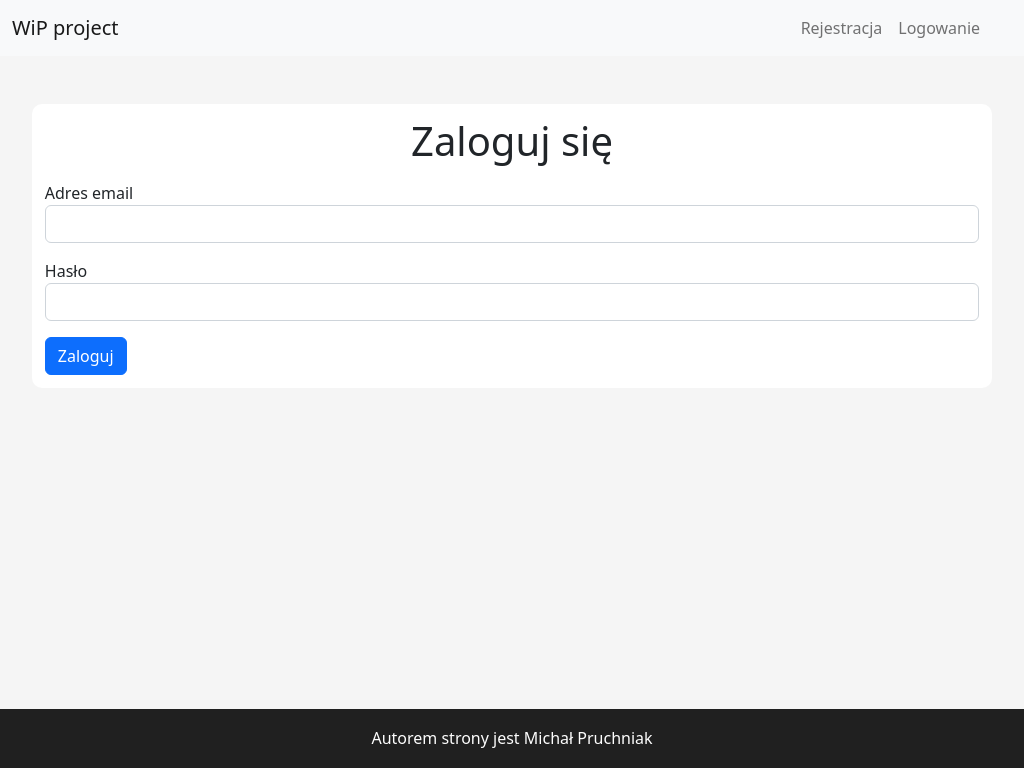
Test: check login validation
Click the submit button: (86, 356) [45,337,127,375]
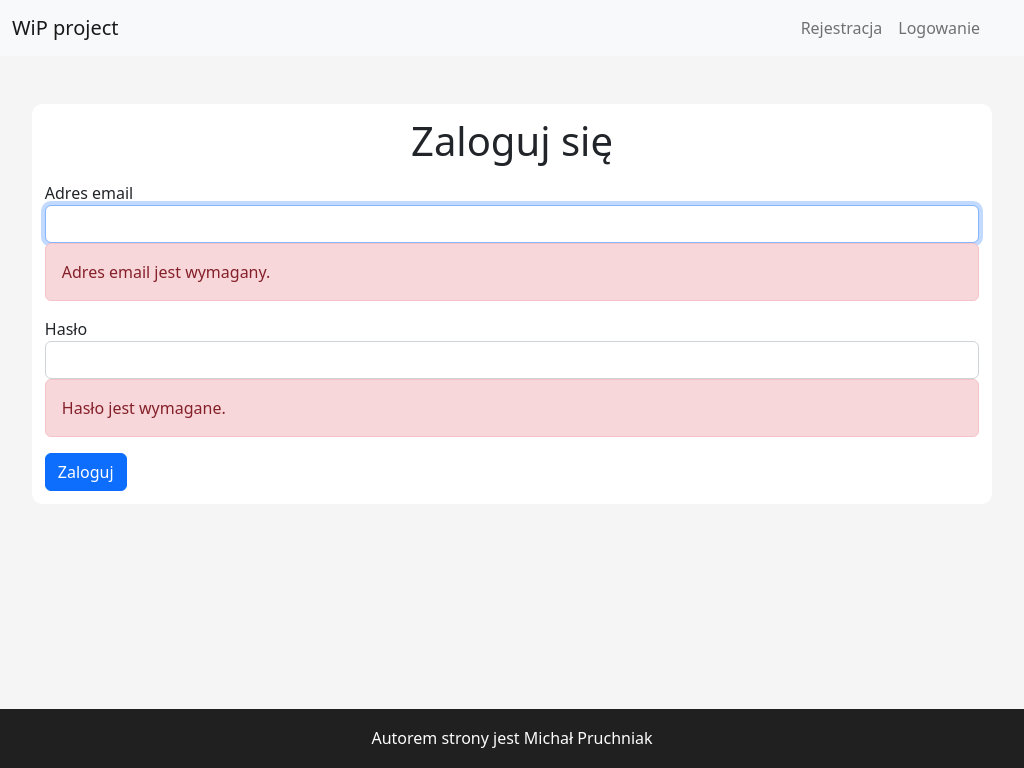
Expected: the text "Adres email jest wymagany." is shown, [45,243,979,301]
Expected: the text "Hasło jest wymagane." is shown, [45,379,979,437]
In the field labelled "Adres email": (512, 224) [45,205,979,243], type "invalid"
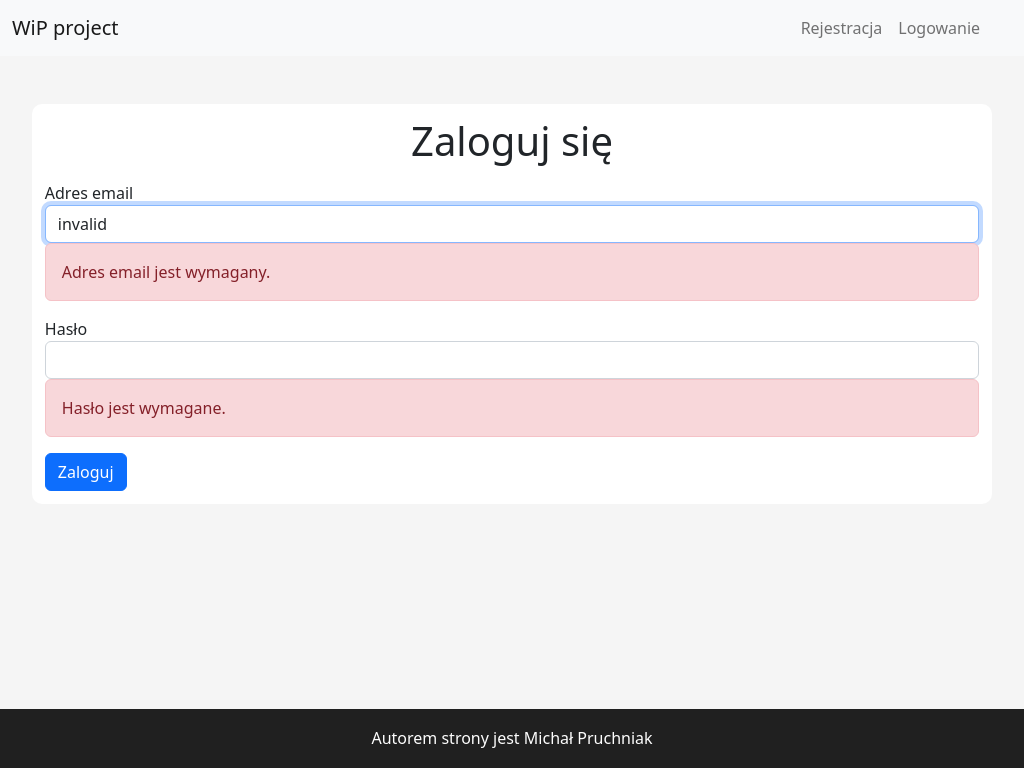
In the password field labelled "Hasło": (512, 360) [45,341,979,379], type "i"
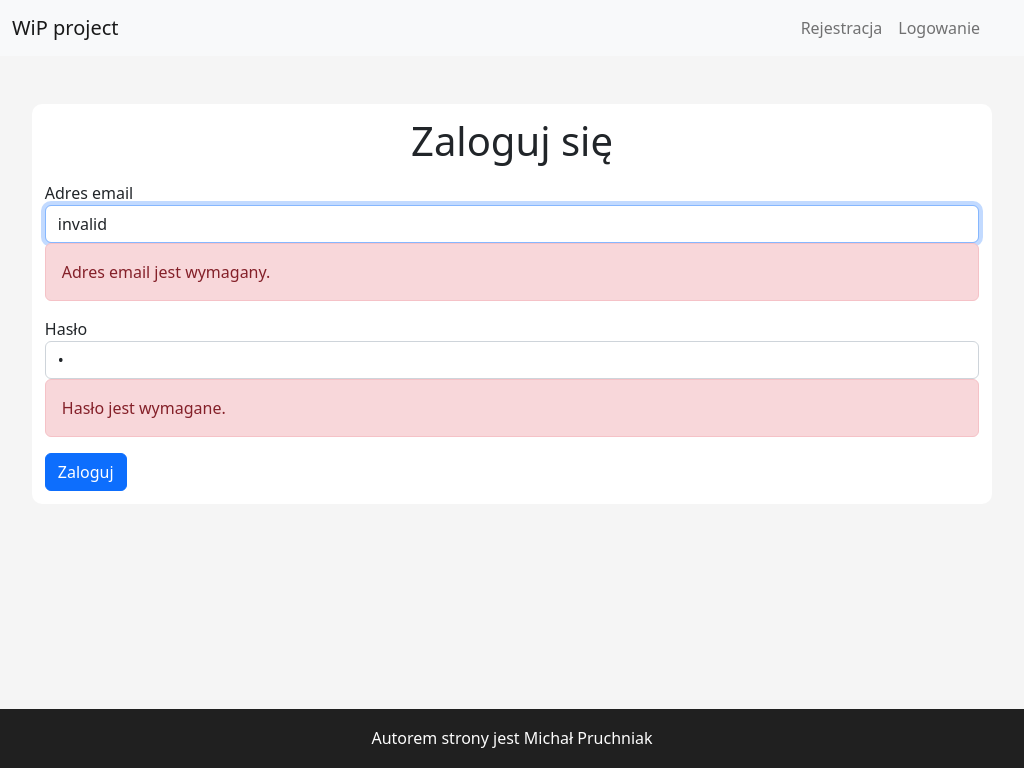
Click the submit button: (86, 472) [45,453,127,491]
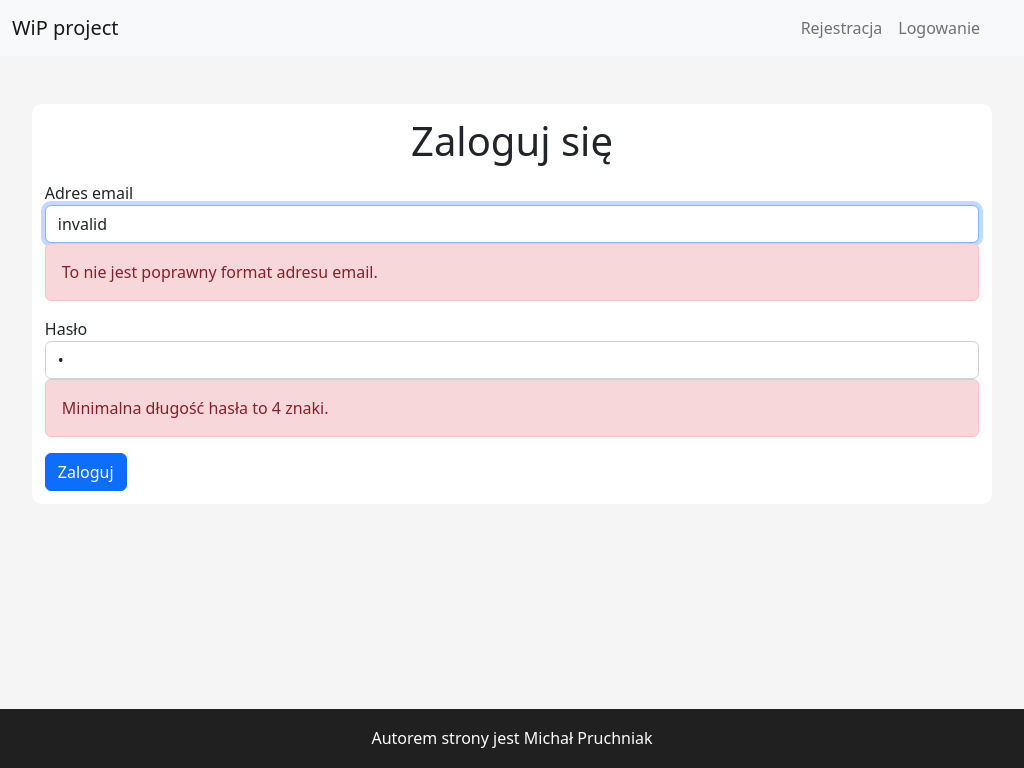
Expected: the text "To nie jest poprawny format adresu email." is shown, [45,243,979,301]
Expected: the text "Minimalna długość hasła to 4 znaki." is shown, [45,379,979,437]
